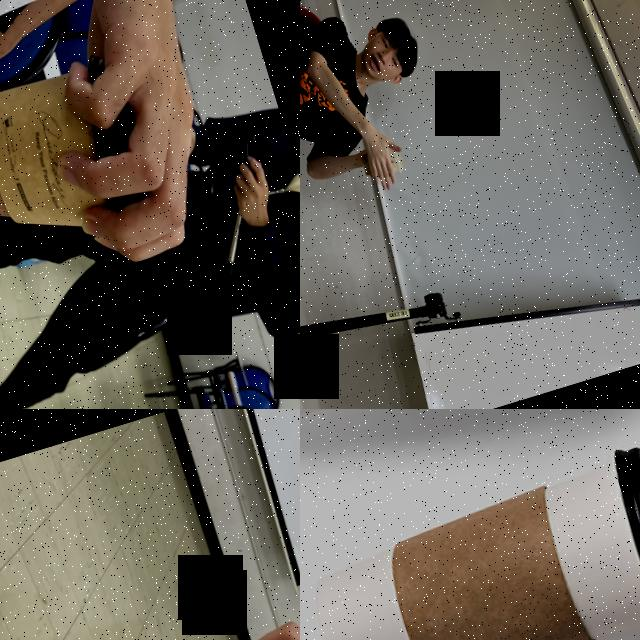cup: (300, 429, 640, 640), (0, 45, 167, 268), (300, 409, 640, 457), (358, 140, 405, 182)
